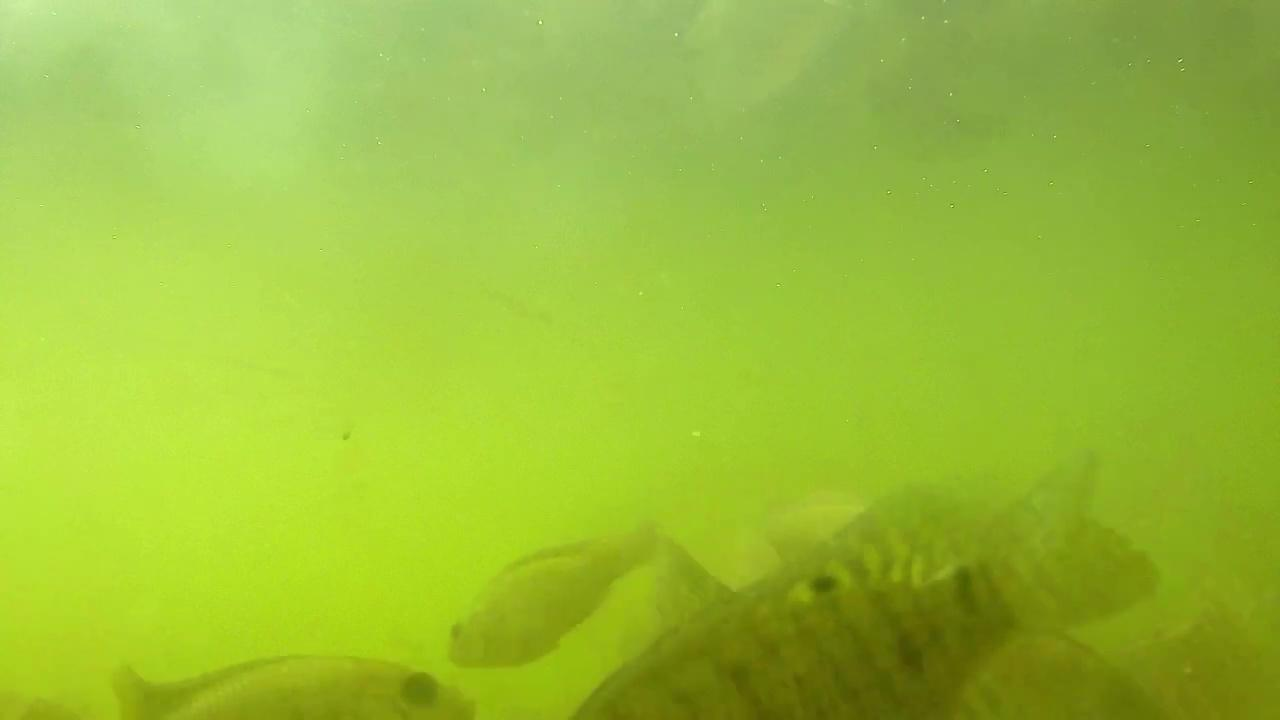Tilapia: (575, 470, 1160, 720), (443, 510, 660, 686)
